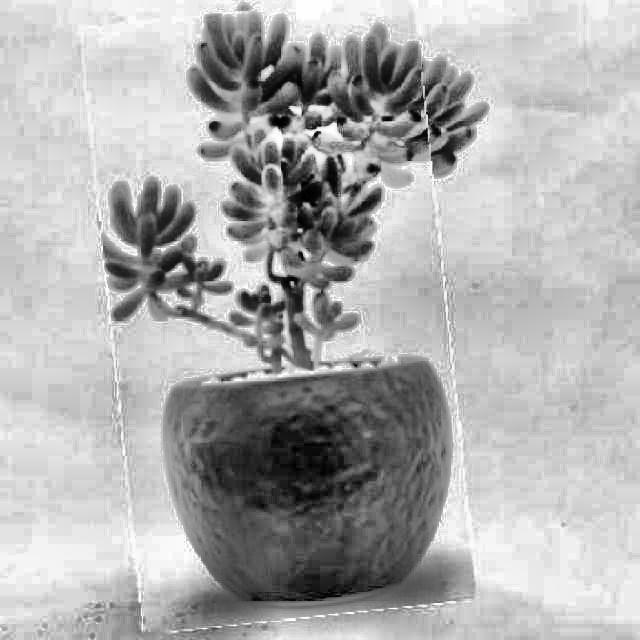plants: (96, 1, 462, 626)
